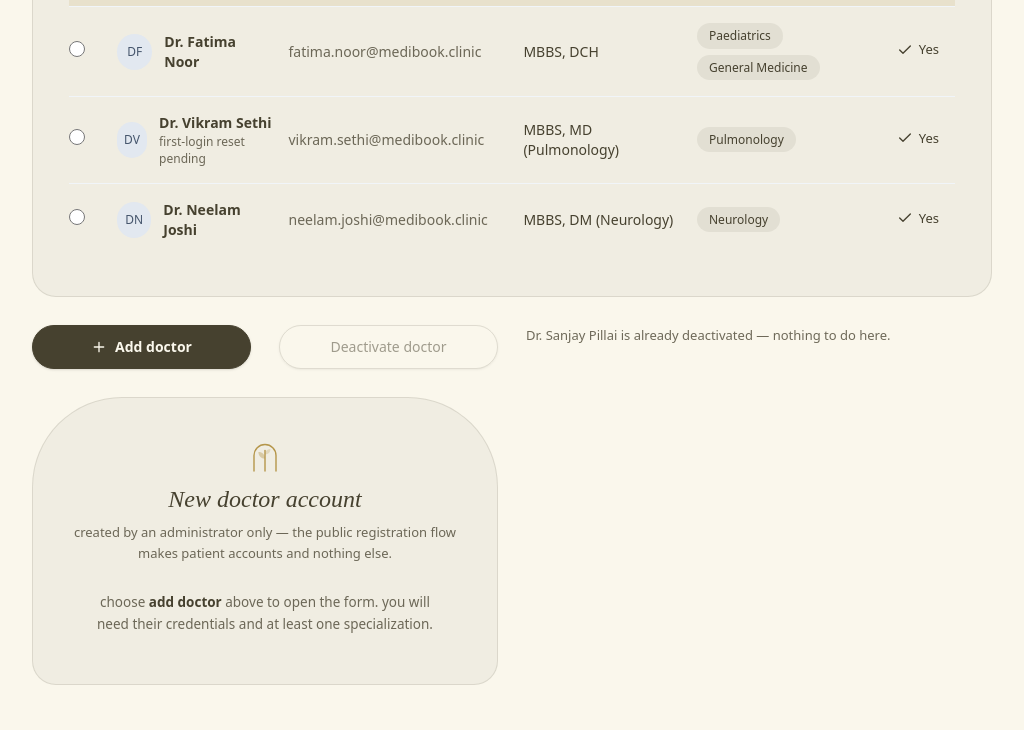
Admin screen - doctor account creation › [AC-009] shows the first-login password as <set-at-first-login>
The image size is (1024, 730).
(page scrolled)
Click the button "Add doctor": (142, 347) [32,325,251,369]
(page scrolled)
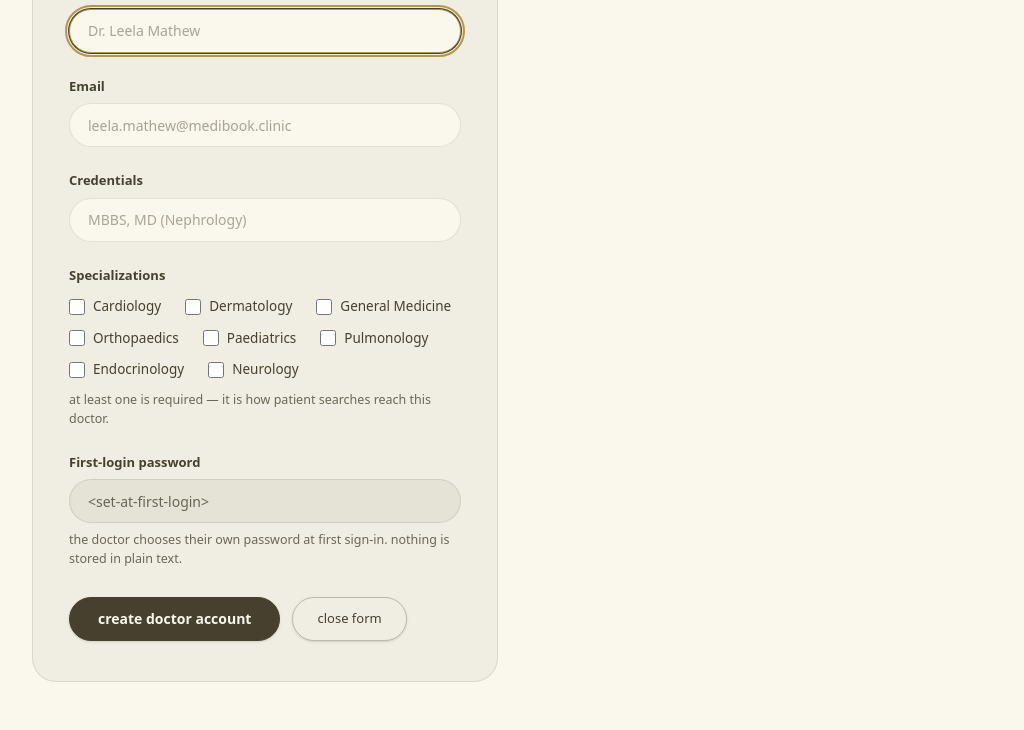
Expected: the field with test id "first-login-password-set-at-first-input" holds "<set-at-first-login>", [69,479,461,523]
